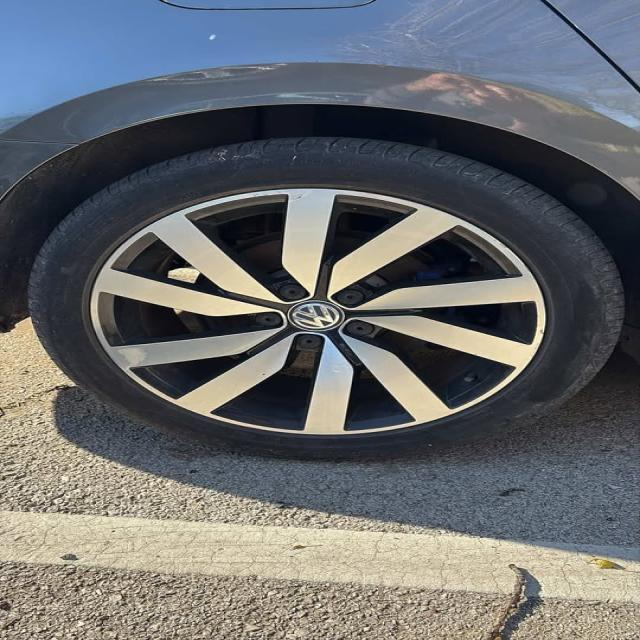jante: (82, 187, 548, 438)
parafuso: (277, 282, 306, 301), (337, 290, 363, 306), (346, 321, 373, 336), (255, 312, 281, 327), (296, 334, 322, 349)
roda: (28, 136, 626, 461)
